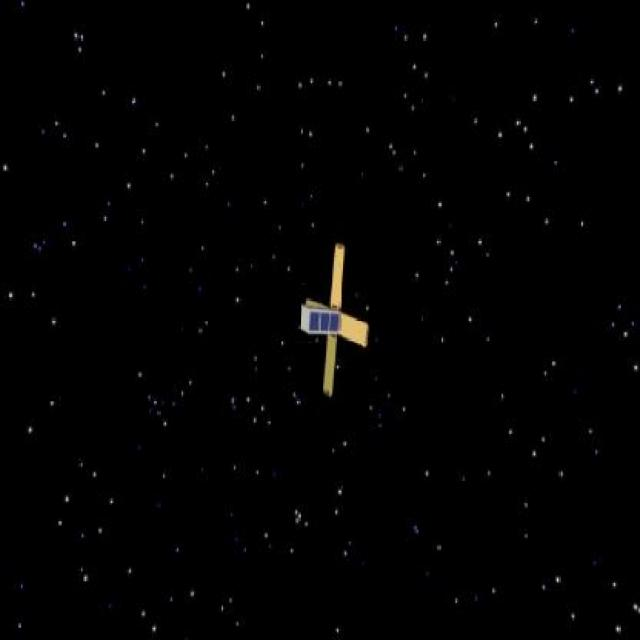satellite: (292, 244, 394, 408)
